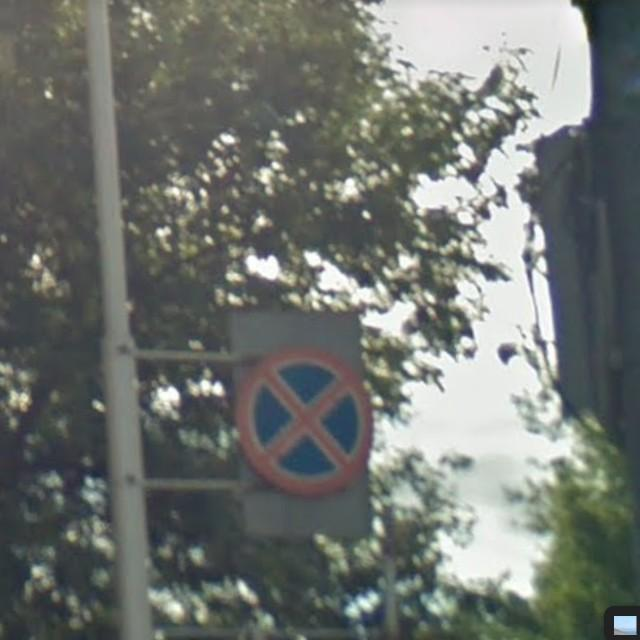No Parking: (230, 344, 385, 508)
